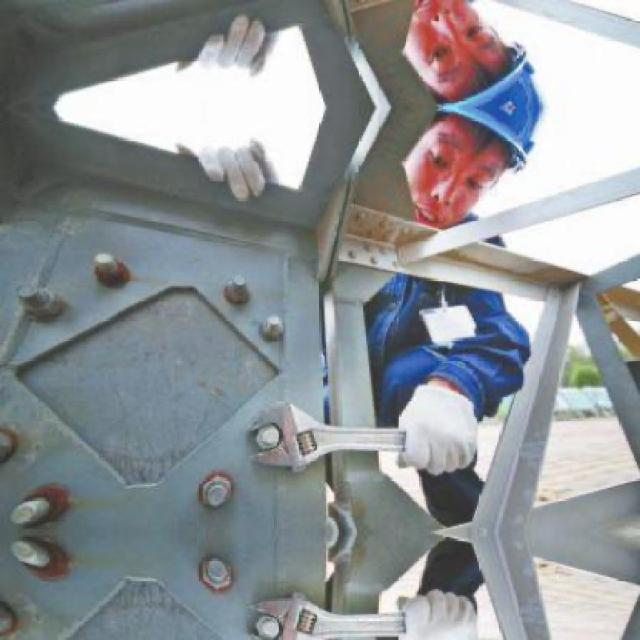con casco: (326, 87, 543, 233)
